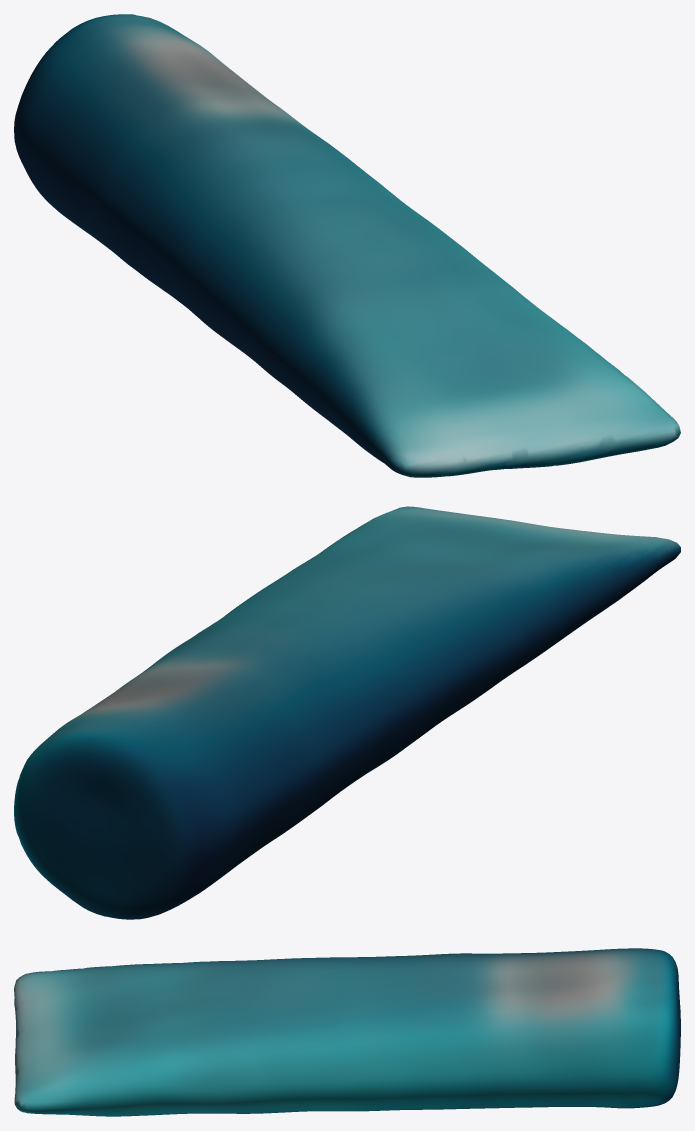
The model's file is oil.glb.
3 renders of one model, top to bottom at view 1: azimuth 30°, elevation 25°; view 2: azimuth 150°, elevation 25°; view 3: azimuth 270°, elevation 25°, orthographic. The views are drawn at different scales.
Bounding box in the file's own units: 0.3716 × 0.2374 × 0.9992.
